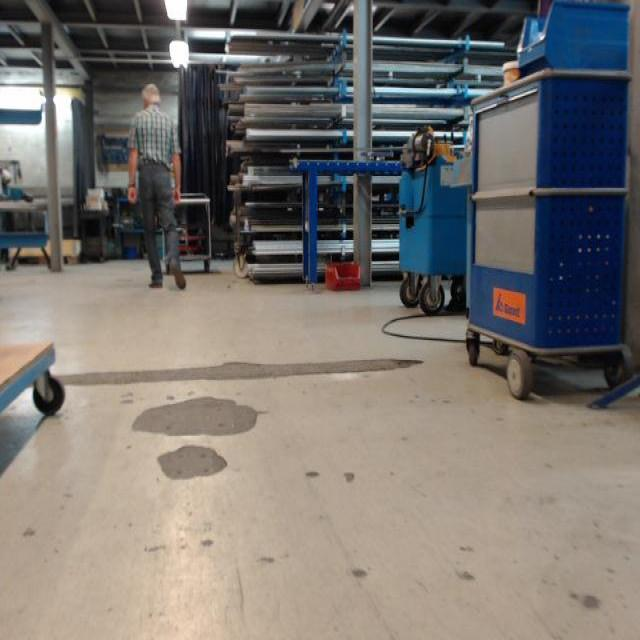pallet: (8, 255, 84, 269)
